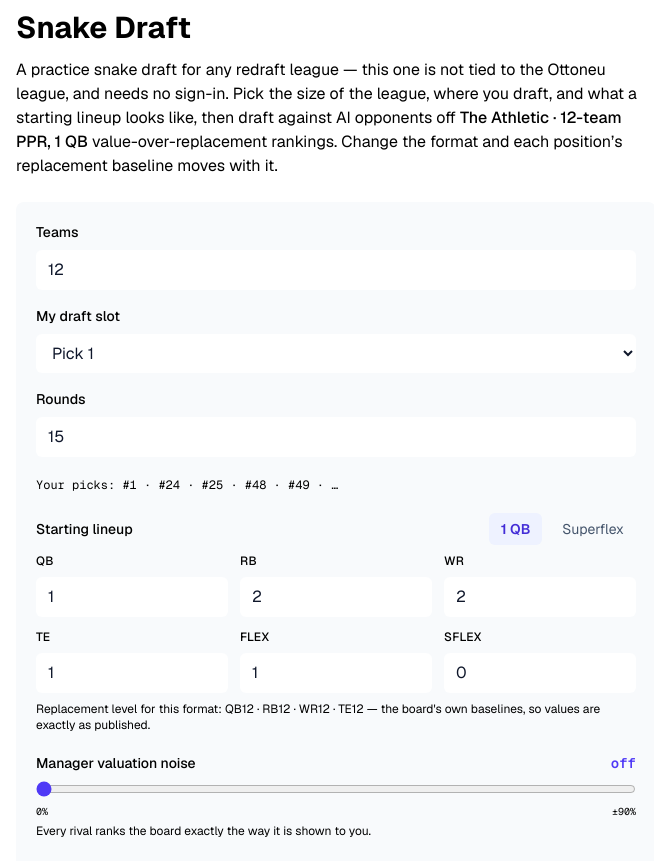
SnakeDraftClient › shows the user's snake picks for the chosen slot
Replace the text in the number field labelled "Teams" with "10". click: (336, 270)
box: [36,250,636,290]
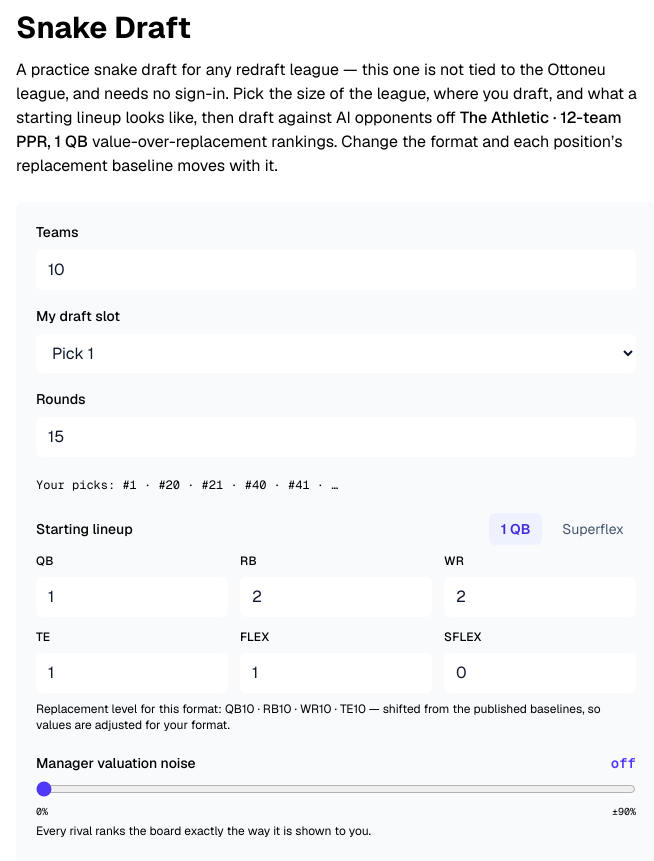
Select "Pick 3" in the dropdown labelled "My draft slot". click: (336, 354)
box: [36,334,636,373]
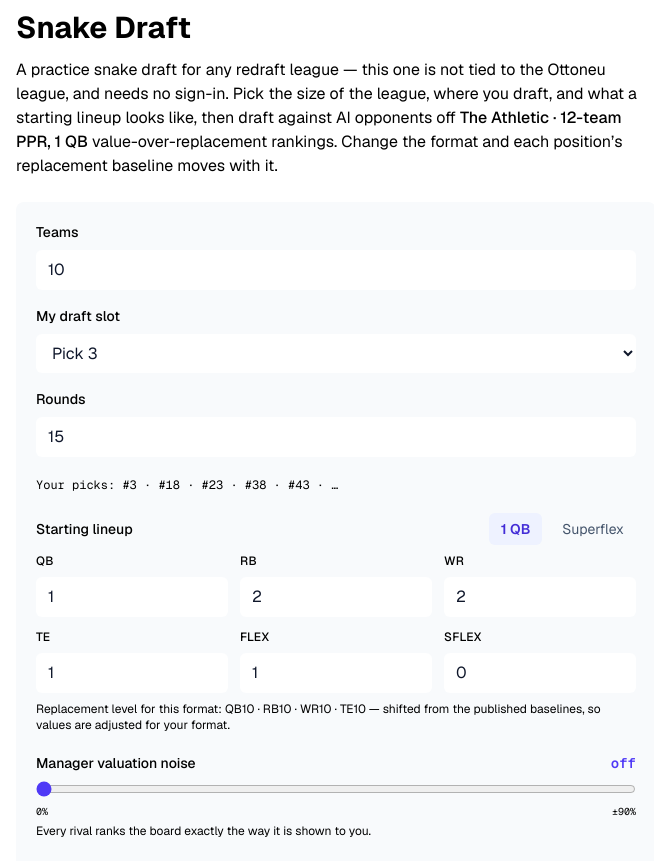
Check: the text "Your picks: #3 · #18 · #23 · #38 · #43 · …" is shown, box [36,477,338,493]
